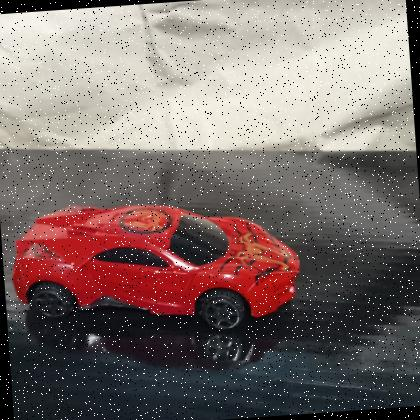Car: (4, 184, 308, 351)
